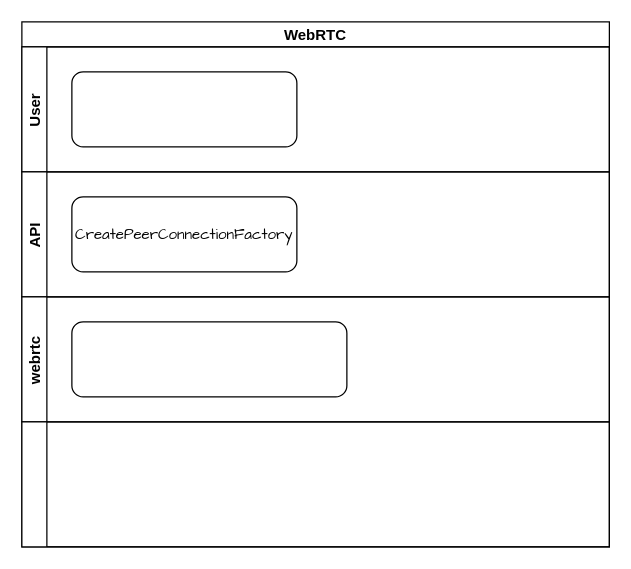
This 631x569 diagram has some shape labels left out. Here are the shapes that lost their labels. From the top down, the centre of each, then its label:
At (184,109): "PeerConnectionFactoryInterface".
At (209,359): "CreateModularPeerConnectionFactory".
